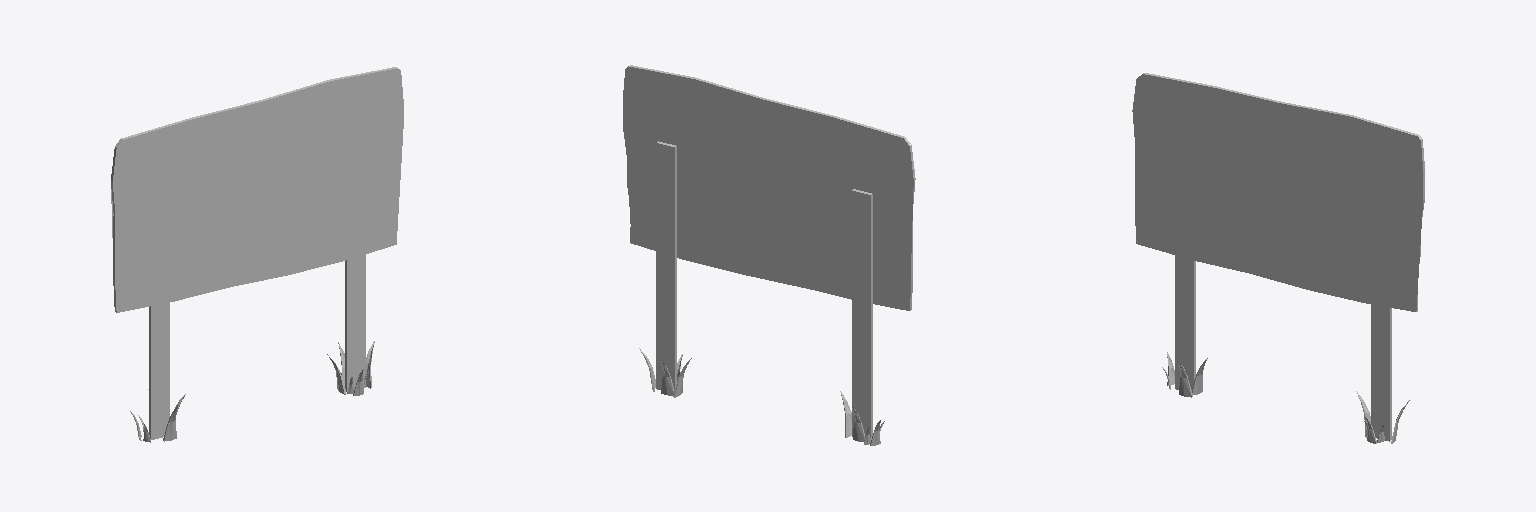
File: Sign8.obj
3 renders of one model, left to right at view 1: azimuth 30°, elevation 25°; view 2: azimuth 150°, elevation 25°; view 3: azimuth 330°, elevation 25°, orthographic.
Visible parts, largest first — view 1: Sign8; view 2: Sign8; view 3: Sign8.
Boxes of the visible parts, x1=… form: Sign8: x1=111, y1=67, x2=403, y2=442; Sign8: x1=623, y1=65, x2=915, y2=445; Sign8: x1=1132, y1=73, x2=1424, y2=443.
Size of the model in its own units: 2.45 by 2.55 by 0.3623.